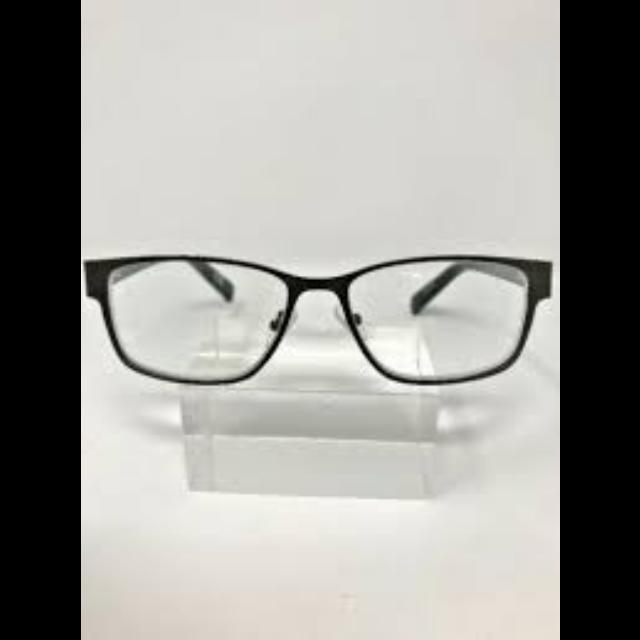glasses: (80, 250, 560, 386)
